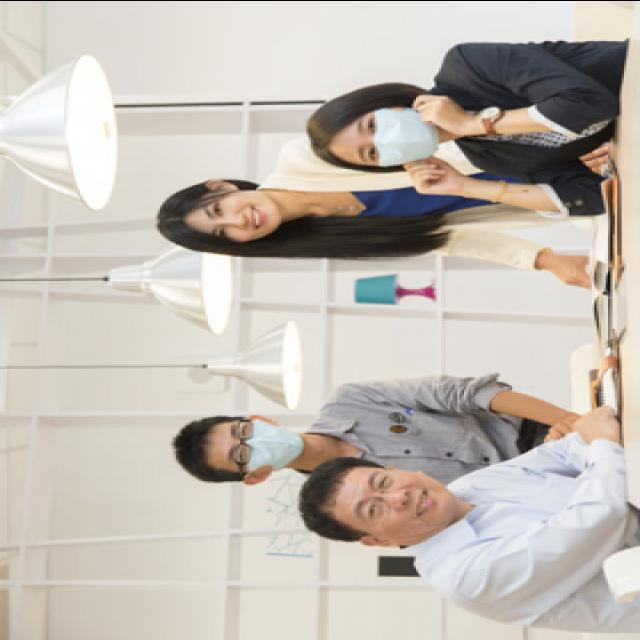with_mask: (348, 106, 443, 168), (220, 418, 306, 478)
without_mask: (343, 466, 457, 540), (199, 190, 281, 240)
